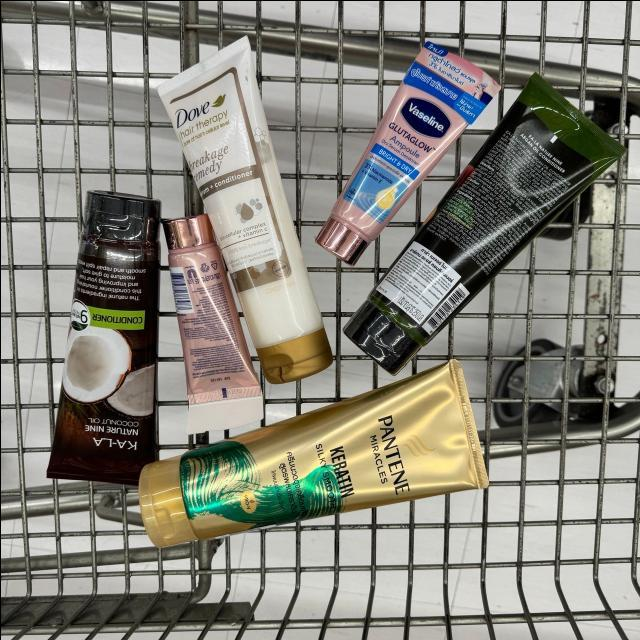Squeeze Tube: (343, 52, 633, 389), (131, 26, 339, 382), (128, 359, 492, 556), (309, 39, 506, 267), (43, 188, 173, 491)
